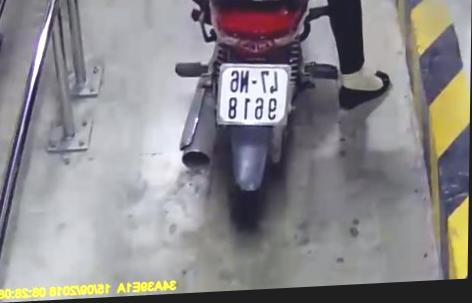License_Plate: (213, 58, 294, 129)
